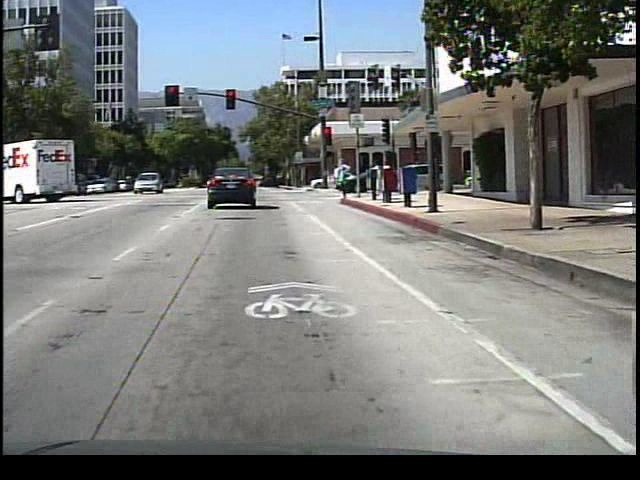person: (333, 152, 355, 203)
